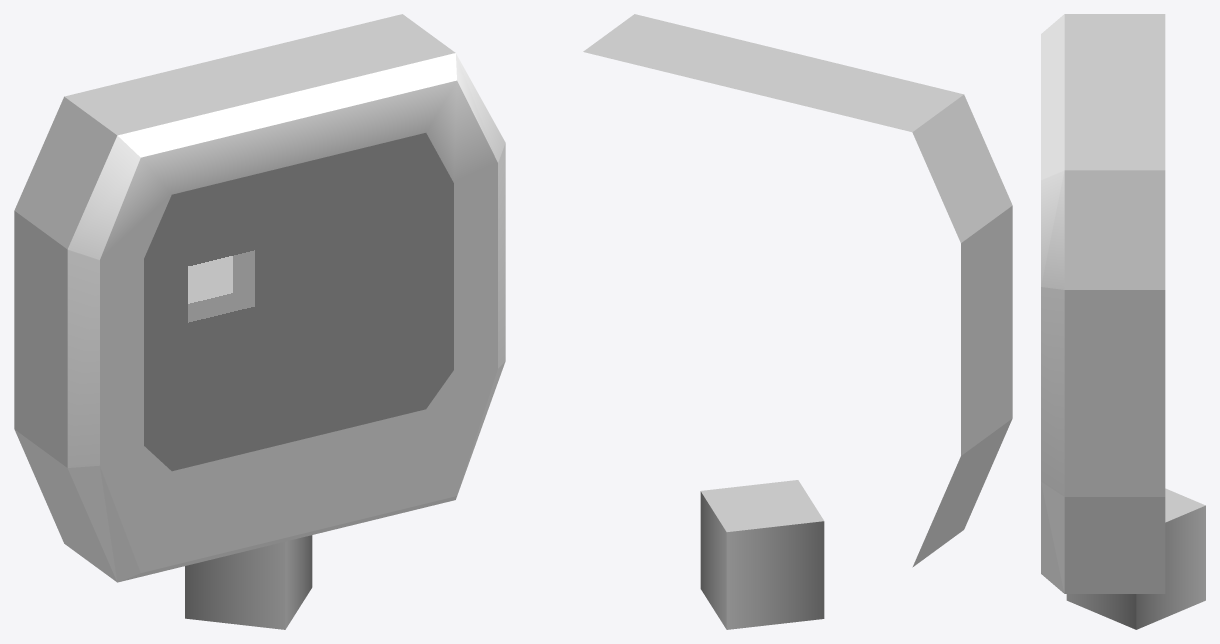
3 views of the same model, side by side, from view 1: azimuth 30°, elevation 25°; view 2: azimuth 150°, elevation 25°; view 3: azimuth 270°, elevation 25° (orthographic). The views are drawn at different scales.
Parts seen in each view (by area): view 1: pc01; view 2: pc01; view 3: pc01.
Part boxes in pixels (left/top/right/bottom): pc01: left=14, top=14, right=505, bottom=629; pc01: left=583, top=14, right=1012, bottom=629; pc01: left=1041, top=14, right=1205, bottom=629.
Size of the model in its own units: 1.15 by 1.35 by 0.3968.
Materials: 3 (3 with a texture image).
